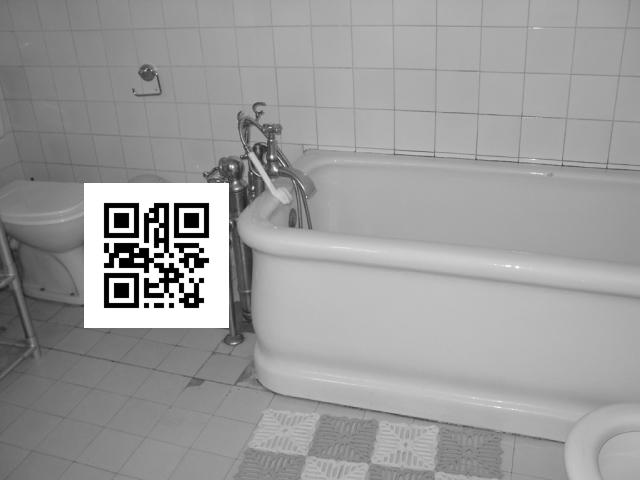qr_code: (94, 196, 217, 320)
